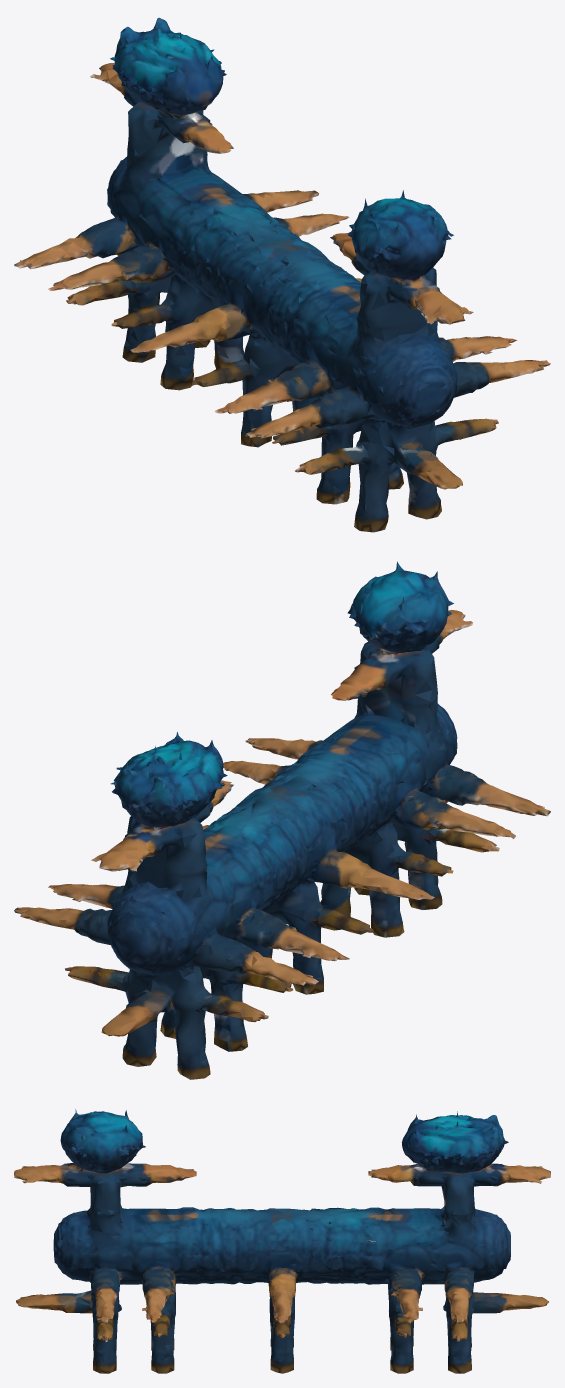
The model's file is player_v2.glb.
3 renders of one model, top to bottom at view 1: azimuth 30°, elevation 25°; view 2: azimuth 150°, elevation 25°; view 3: azimuth 270°, elevation 25°, orthographic. The views are drawn at different scales.
Visible parts, largest first — view 1: Player_V2; view 2: Player_V2; view 3: Player_V2.
Boxes of the visible parts, <box> form: Player_V2: <box>14,17,550,532</box>; Player_V2: <box>14,561,550,1079</box>; Player_V2: <box>14,1109,550,1373</box>.
Size of the model in its own units: 0.7465 by 0.7487 by 1.5.
1 material, 1 textured.
